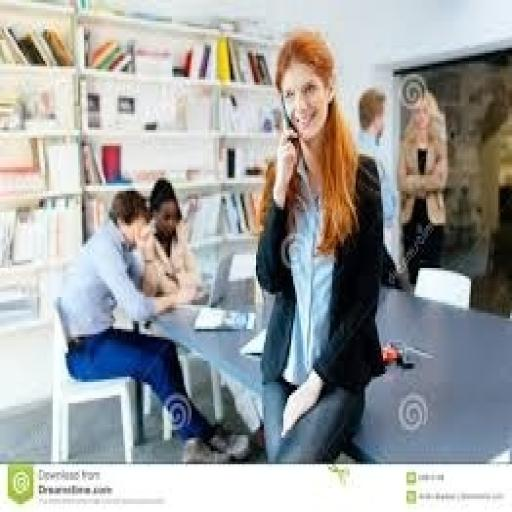calling: (252, 27, 385, 464), (57, 186, 250, 464), (393, 85, 449, 286)
